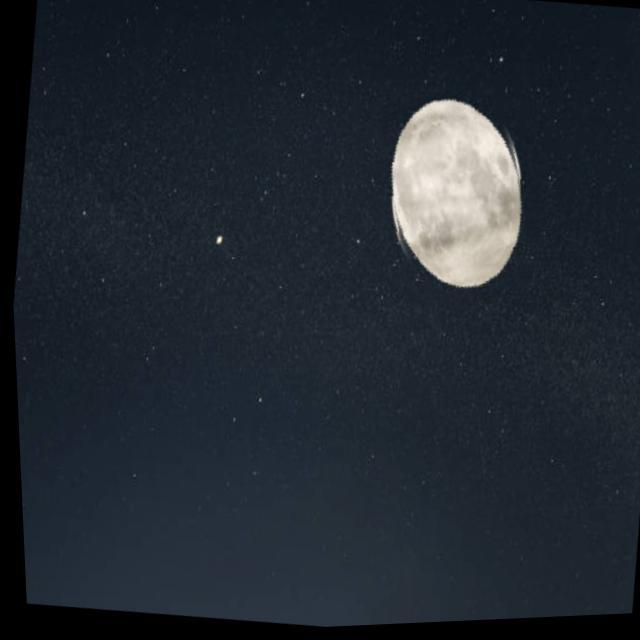moon: (364, 83, 550, 321)
